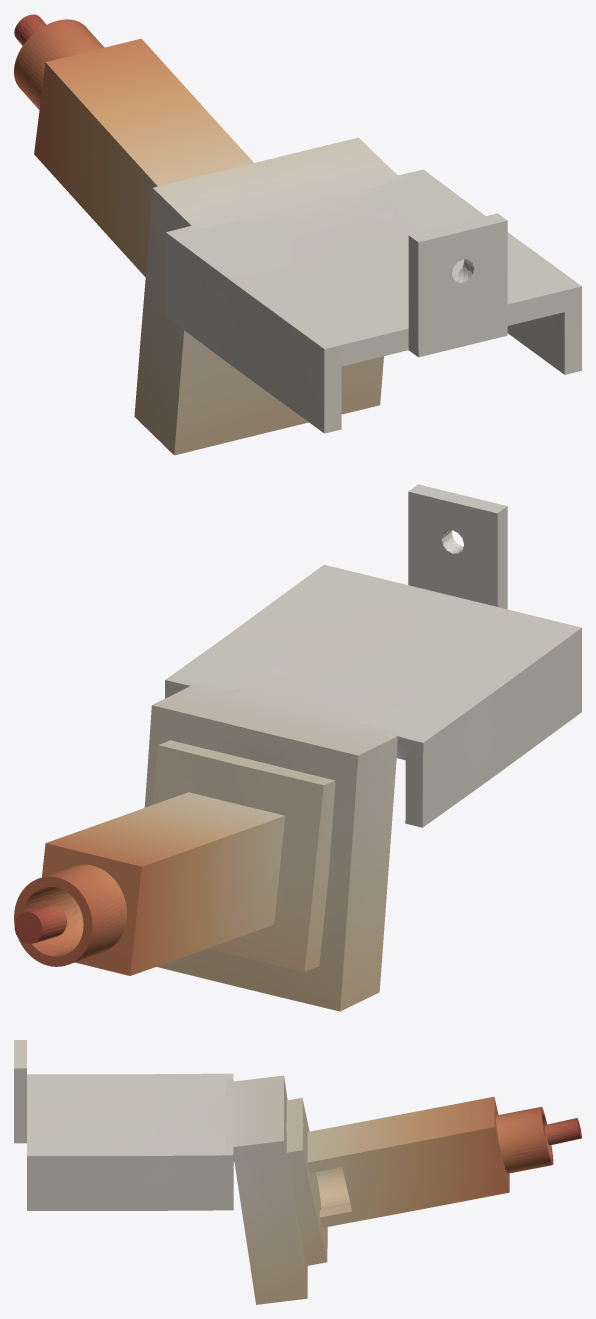
Rendered from z_strip_Fy_u.glb.
3 renders of one model, top to bottom at view 1: azimuth 30°, elevation 25°; view 2: azimuth 150°, elevation 25°; view 3: azimuth 270°, elevation 25°, orthographic. The views are drawn at different scales.
Visible parts, largest first — view 1: geometry_0; view 2: geometry_0; view 3: geometry_0.
Part boxes in pixels (x1=…): geometry_0: x1=14, y1=14, x2=581, y2=455; geometry_0: x1=14, y1=484, x2=581, y2=1011; geometry_0: x1=14, y1=1040, x2=581, y2=1304.
Bounding box in the file's own units: 150 × 186 × 440.
